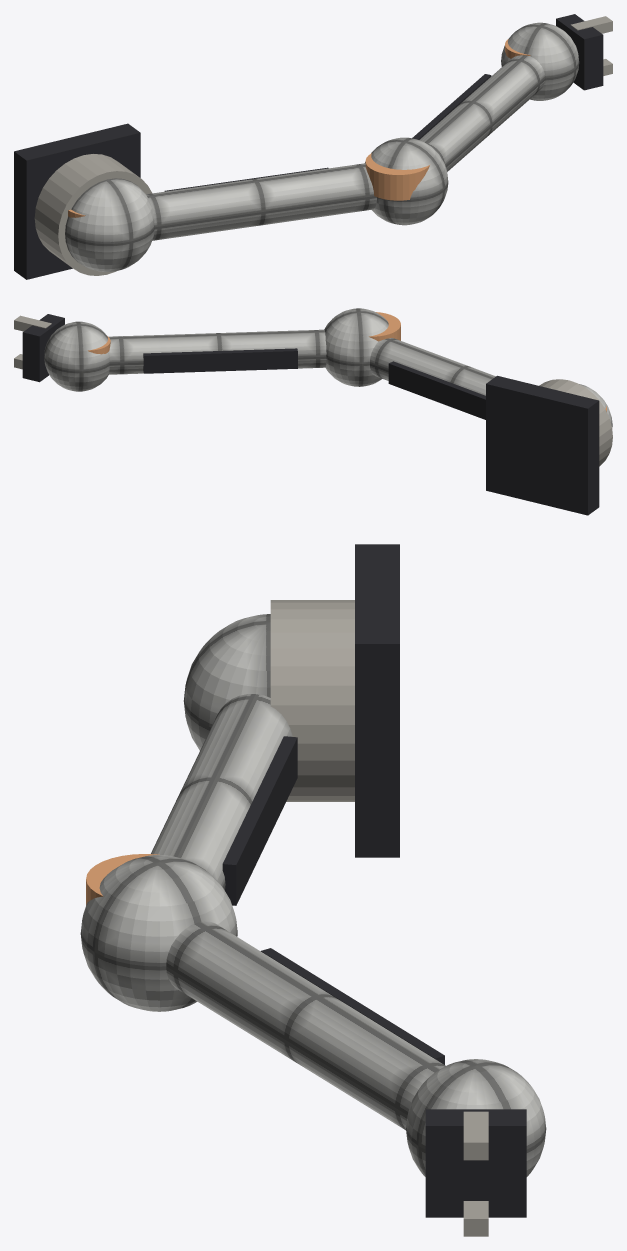
Rendered from robot.high.glb.
3 renders of one model, top to bottom at view 1: azimuth 30°, elevation 25°; view 2: azimuth 150°, elevation 25°; view 3: azimuth 270°, elevation 25°, orthographic. The views are drawn at different scales.
Visible parts, largest first — view 1: visual::upper_arm::1, visual::base_link::1, visual::shoulder_yaw_link::0, visual::forearm::2, visual::base_link::0, visual::forearm::0, visual::wrist_yaw_link::0, visual::tool_link::2, visual::forearm::1, visual::forearm::3, visual::tool_link::3; view 2: visual::base_link::1, visual::forearm::2, visual::wrist_yaw_link::0, visual::forearm::0, visual::forearm::3, visual::upper_arm::1, visual::upper_arm::2, visual::tool_link::2, visual::base_link::0, visual::forearm::1, visual::tool_link::3; view 3: visual::forearm::2, visual::forearm::0, visual::base_link::0, visual::base_link::1, visual::upper_arm::1, visual::tool_link::2, visual::wrist_yaw_link::0, visual::shoulder_yaw_link::0, visual::upper_arm::2, visual::forearm::3, visual::tool_link::3, visual::forearm::1 (+1 smaller).
Part boxes in pixels (x1,y1,x2,y2): visual::upper_arm::1: [146, 163, 376, 240]; visual::base_link::1: [14, 123, 140, 279]; visual::shoulder_yaw_link::0: [65, 178, 154, 271]; visual::forearm::2: [419, 55, 545, 171]; visual::base_link::0: [34, 154, 151, 275]; visual::forearm::0: [365, 137, 448, 225]; visual::wrist_yaw_link::0: [501, 22, 579, 100]; visual::tool_link::2: [556, 14, 603, 90]; visual::forearm::1: [365, 153, 429, 200]; visual::forearm::3: [412, 74, 491, 139]; visual::tool_link::3: [570, 16, 612, 33]; visual::base_link::1: [486, 375, 599, 515]; visual::forearm::2: [108, 329, 326, 374]; visual::wrist_yaw_link::0: [44, 321, 109, 391]; visual::forearm::0: [324, 308, 388, 386]; visual::forearm::3: [143, 348, 297, 373]; visual::upper_arm::1: [370, 338, 495, 395]; visual::upper_arm::2: [388, 361, 485, 419]; visual::tool_link::2: [22, 314, 64, 382]; visual::base_link::0: [539, 379, 612, 466]; visual::forearm::1: [369, 312, 400, 341]; visual::tool_link::3: [14, 315, 51, 331]; visual::forearm::2: [166, 921, 445, 1130]; visual::forearm::0: [80, 855, 237, 1011]; visual::base_link::0: [270, 600, 354, 801]; visual::base_link::1: [355, 544, 399, 857]; visual::upper_arm::1: [151, 694, 292, 890]; visual::tool_link::2: [425, 1109, 526, 1217]; visual::wrist_yaw_link::0: [406, 1059, 546, 1176]; visual::shoulder_yaw_link::0: [183, 614, 270, 750]; visual::upper_arm::2: [222, 736, 297, 905]; visual::forearm::3: [261, 948, 444, 1064]; visual::tool_link::3: [463, 1111, 488, 1160]; visual::forearm::1: [86, 854, 159, 905].
Size of the model in its own units: 2.27 by 0.42 by 0.8296.
4 materials, 1 textured.
